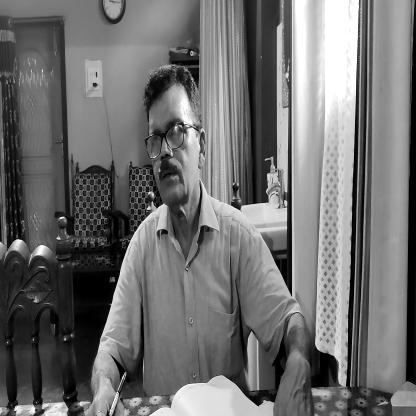Normal: (149, 88, 197, 198)
